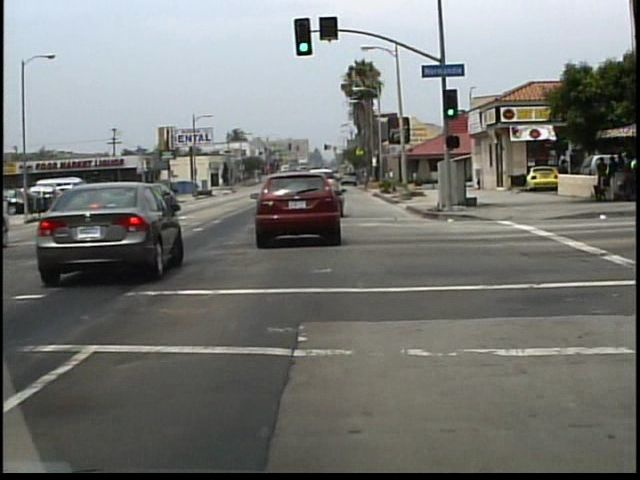person: (554, 157, 571, 197)
